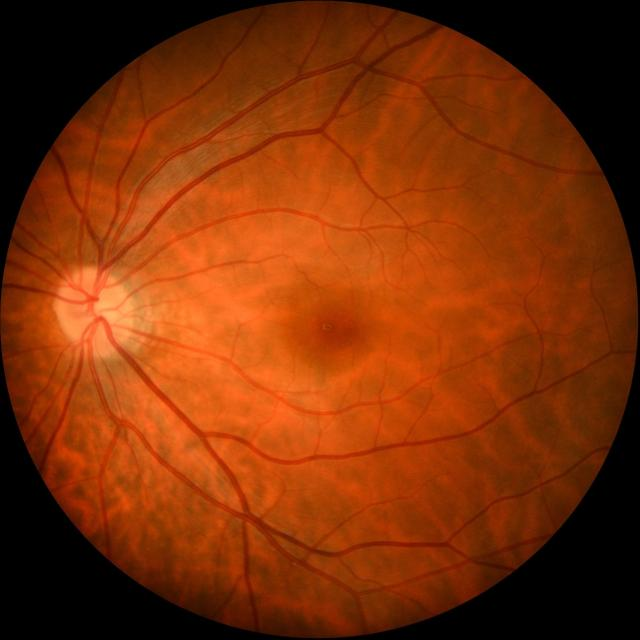OC: (85, 296, 114, 325)
OD: (55, 267, 130, 354)
